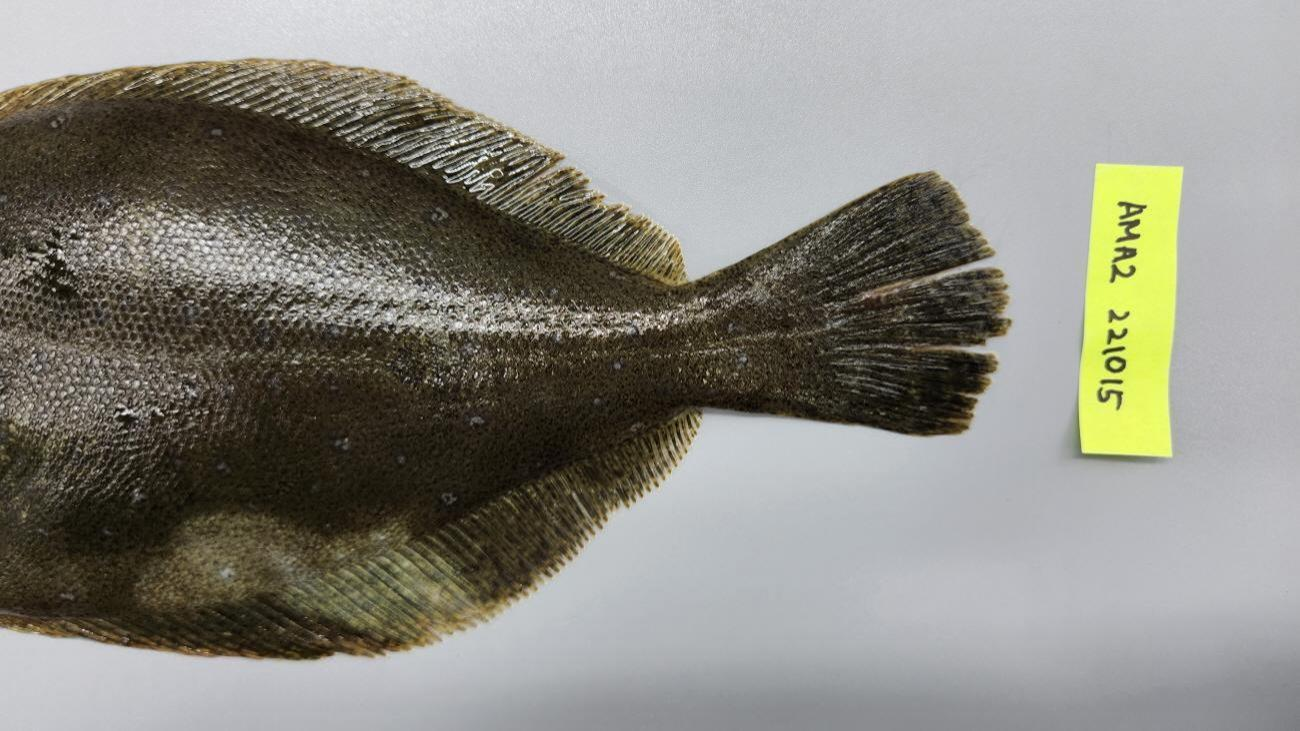MAFCH: (852, 265, 952, 305), (889, 339, 959, 355)
